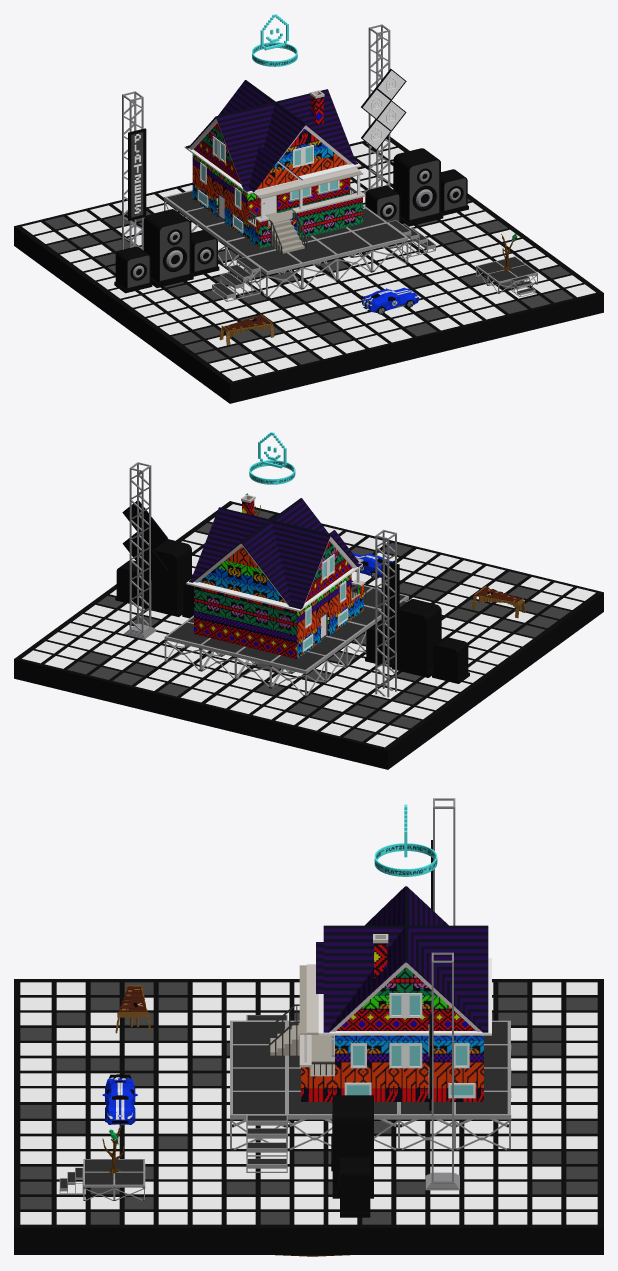
3 renders of one model, top to bottom at view 1: azimuth 30°, elevation 25°; view 2: azimuth 150°, elevation 25°; view 3: azimuth 270°, elevation 25°, orthographic. The views are drawn at different scales.
Visible parts, largest first — view 1: Cube.008, Cube.966, VEHICLES_RACING_CAR, TYPE_PREMIUM, OBJRANDOM_MARIMBA; view 2: Cube.008, Cube.966, TYPE_PREMIUM, OBJRANDOM_MARIMBA, VEHICLES_RACING_CAR; view 3: Cube.008, Cube.966, VEHICLES_RACING_CAR, TYPE_PREMIUM, OBJRANDOM_MARIMBA.
Boxes of the visible parts, bbox=[...] form: Cube.008: bbox=[14, 24, 603, 403]; Cube.966: bbox=[184, 80, 365, 254]; VEHICLES_RACING_CAR: bbox=[361, 287, 418, 314]; TYPE_PREMIUM: bbox=[252, 14, 297, 66]; OBJRANDOM_MARIMBA: bbox=[219, 314, 274, 345]; Cube.008: bbox=[14, 462, 603, 769]; Cube.966: bbox=[186, 494, 366, 658]; TYPE_PREMIUM: bbox=[249, 432, 295, 484]; OBJRANDOM_MARIMBA: bbox=[472, 586, 525, 618]; VEHICLES_RACING_CAR: bbox=[352, 552, 394, 579]; Cube.008: bbox=[14, 798, 603, 1254]; Cube.966: bbox=[268, 886, 491, 1101]; VEHICLES_RACING_CAR: bbox=[102, 1074, 137, 1124]; TYPE_PREMIUM: bbox=[374, 804, 437, 876]; OBJRANDOM_MARIMBA: bbox=[115, 985, 151, 1033].
Bounding box in the file's own units: 4000 × 2578 × 4000.
50 materials, 6 textured.
